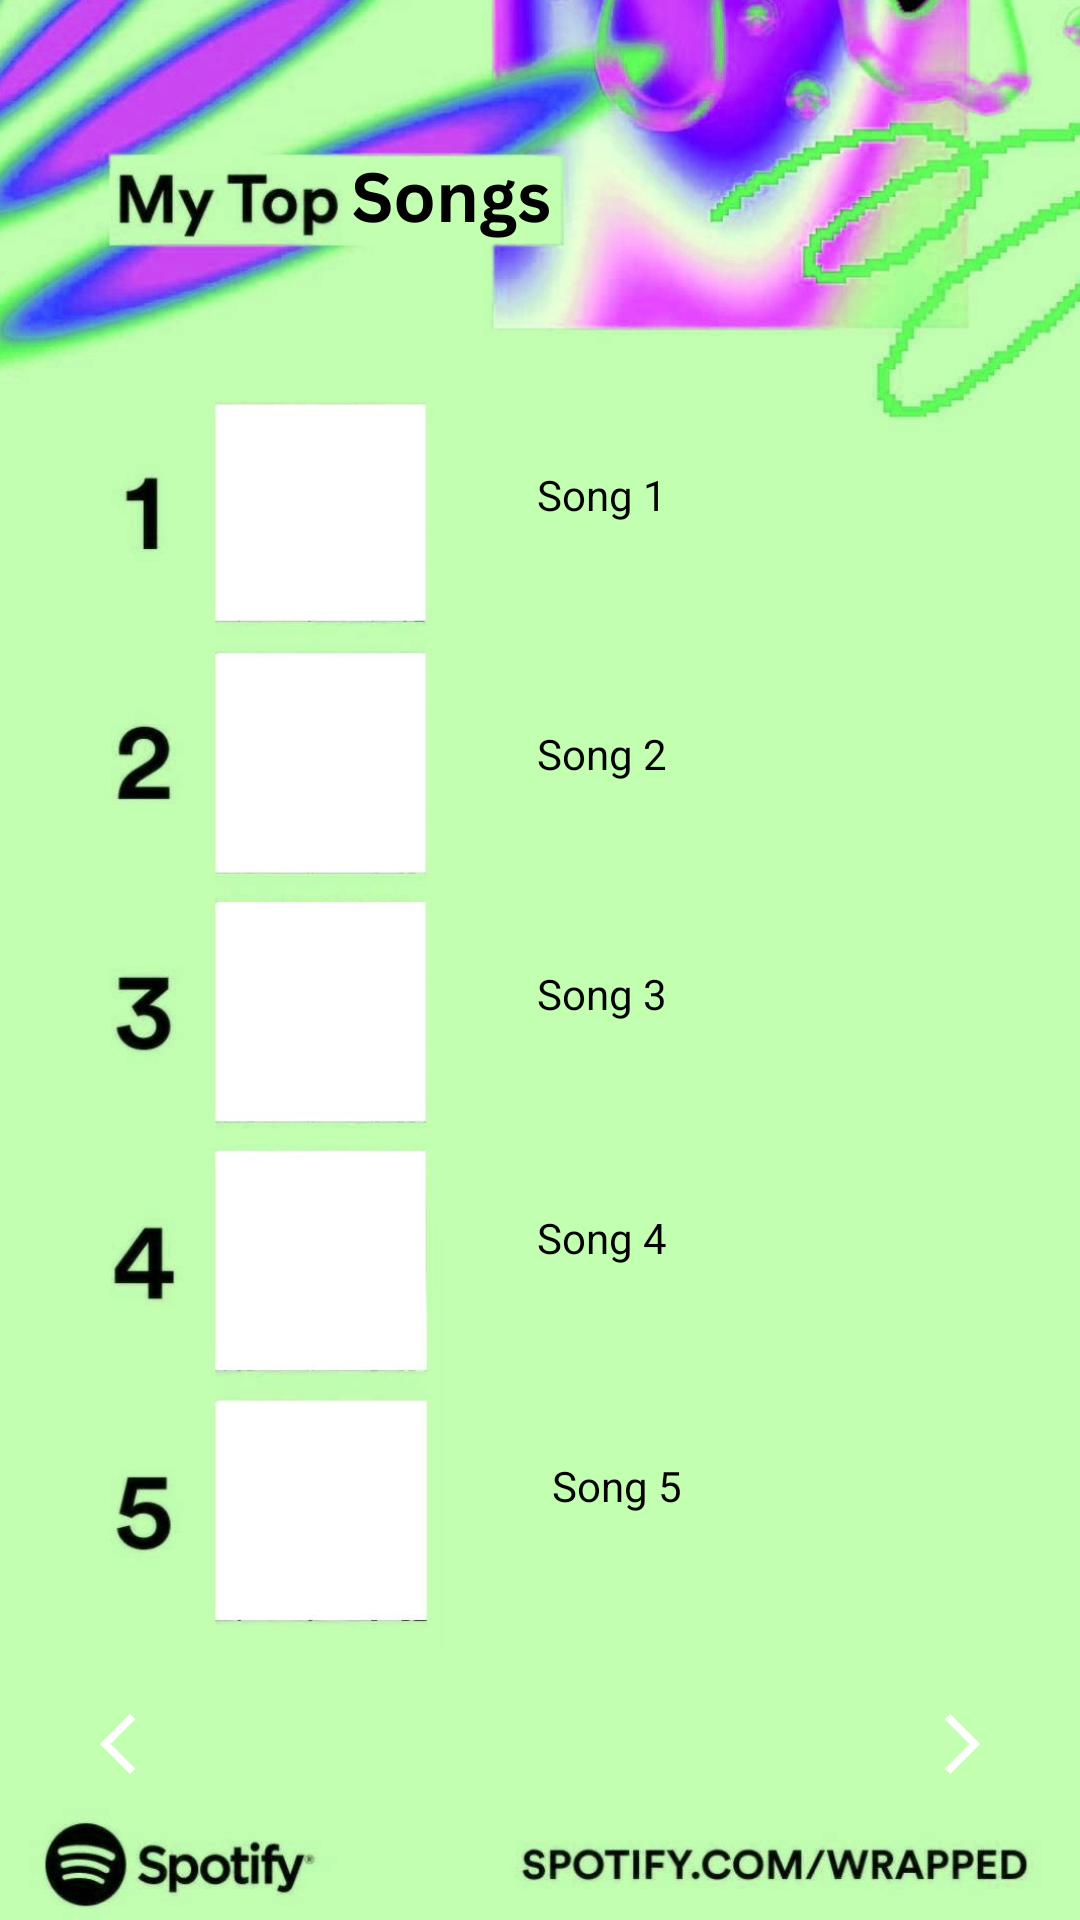

Named icons in this screenshot (1080w x 1920h) and their bounding boxes, bbox(x1, y1, x2, y2):
arrow back: bbox(100, 1714, 135, 1774)
arrow forward: bbox(945, 1714, 980, 1774)
